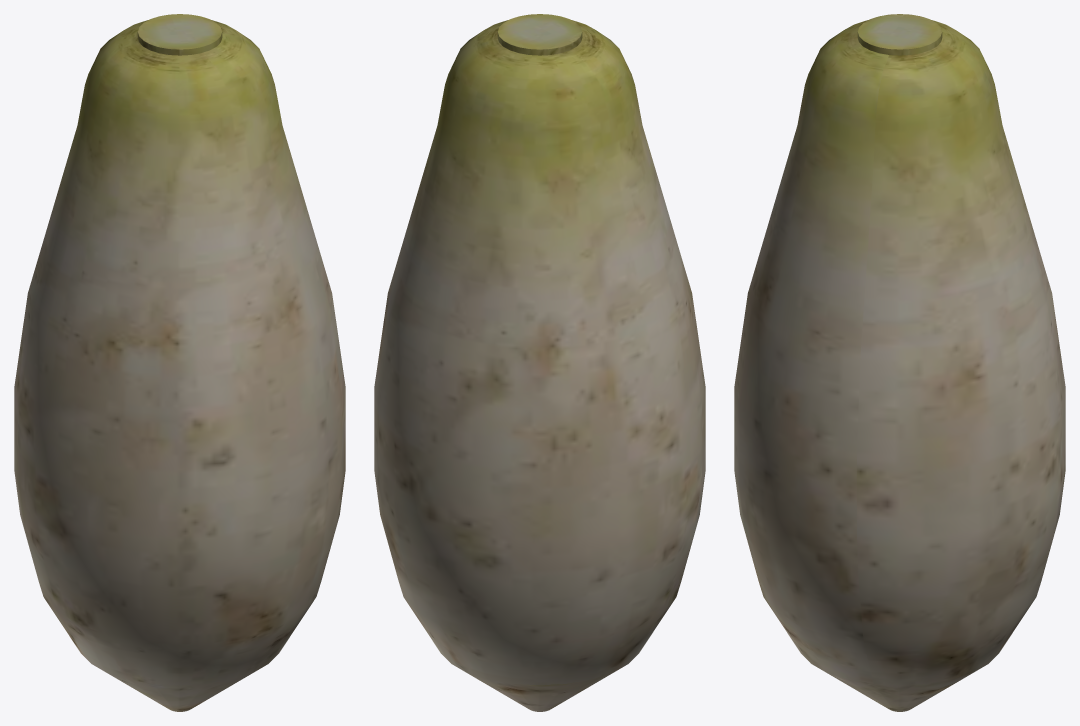
Rendered from realradish.glb.
3 views of the same model, side by side, from view 1: azimuth 30°, elevation 25°; view 2: azimuth 150°, elevation 25°; view 3: azimuth 270°, elevation 25° (orthographic).
Parts seen in each view (by area): view 1: SM_Radish; view 2: SM_Radish; view 3: SM_Radish.
Part boxes in pixels (<box>): SM_Radish: <box>14,14,345,711</box>; SM_Radish: <box>374,14,705,711</box>; SM_Radish: <box>734,14,1065,711</box>.
Bounding box in the file's own units: 0.0534 × 0.12 × 0.0534.
1 material, 1 textured.
